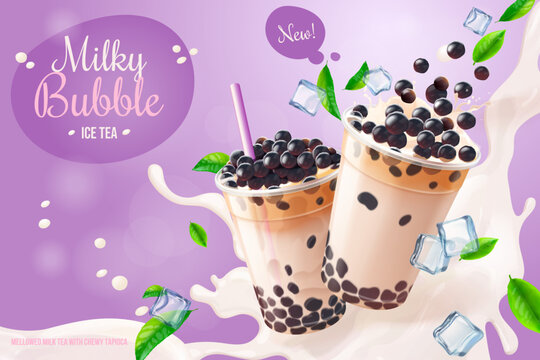Headline: (31, 38, 163, 139)
Product: (224, 81, 471, 332)
